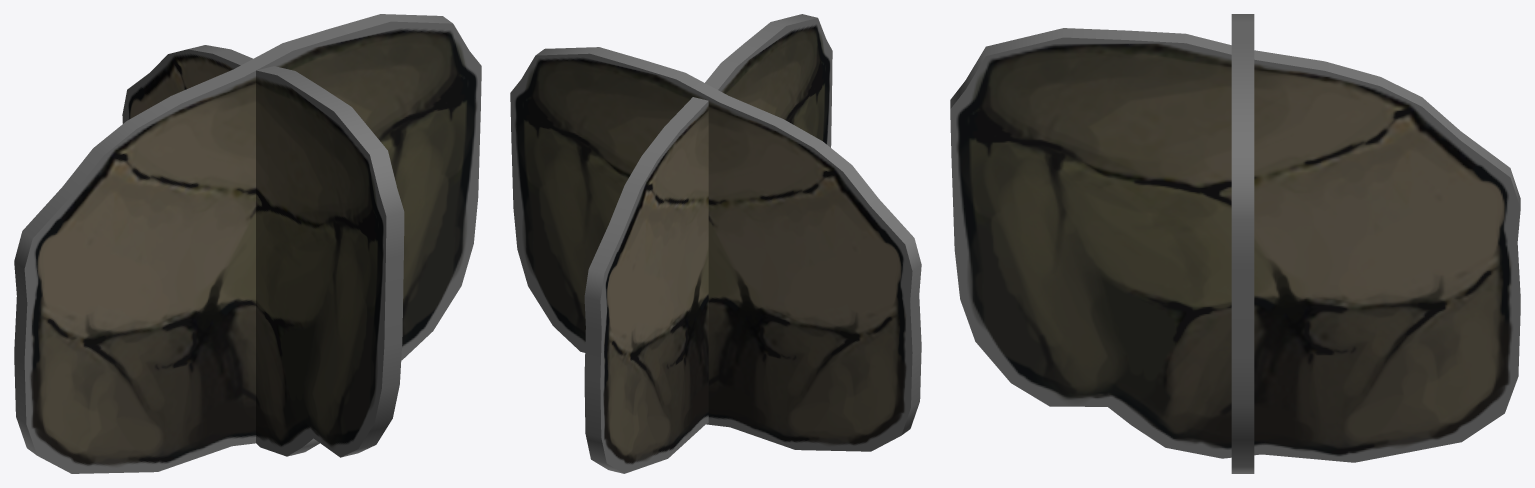
File: PROP_Rock.fbx
The picture shows the model from 3 angles, left to right: view 1: azimuth 30°, elevation 25°; view 2: azimuth 150°, elevation 25°; view 3: azimuth 270°, elevation 25°; orthographic projection. The views are drawn at different scales.
Parts seen in each view (by area): view 1: PROP_Rock; view 2: PROP_Rock; view 3: PROP_Rock.
Part boxes in pixels (x1,y1,x2,y2): PROP_Rock: (14,14,481,473); PROP_Rock: (510,14,921,473); PROP_Rock: (950,14,1520,473).
Size of the model in its own units: 372 by 306 by 372.
